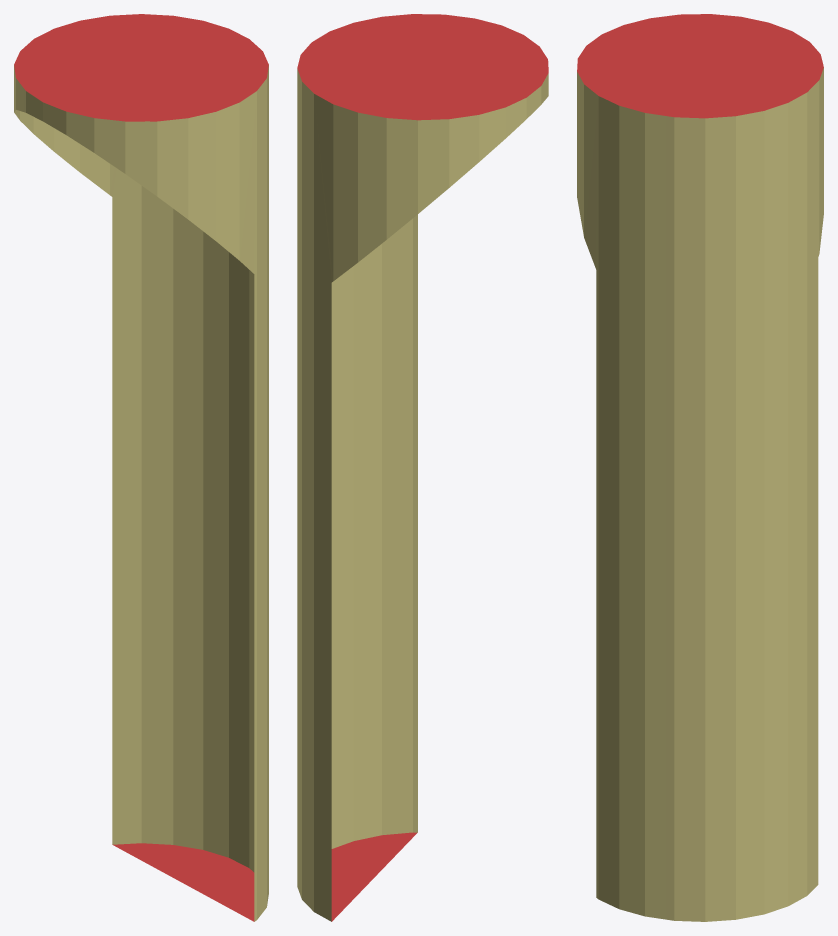
3 views of the same model, side by side, from view 1: azimuth 30°, elevation 25°; view 2: azimuth 150°, elevation 25°; view 3: azimuth 270°, elevation 25° (orthographic). The views are drawn at different scales.
Size of the model in its own units: 2.92 by 2.92 by 10.49.
